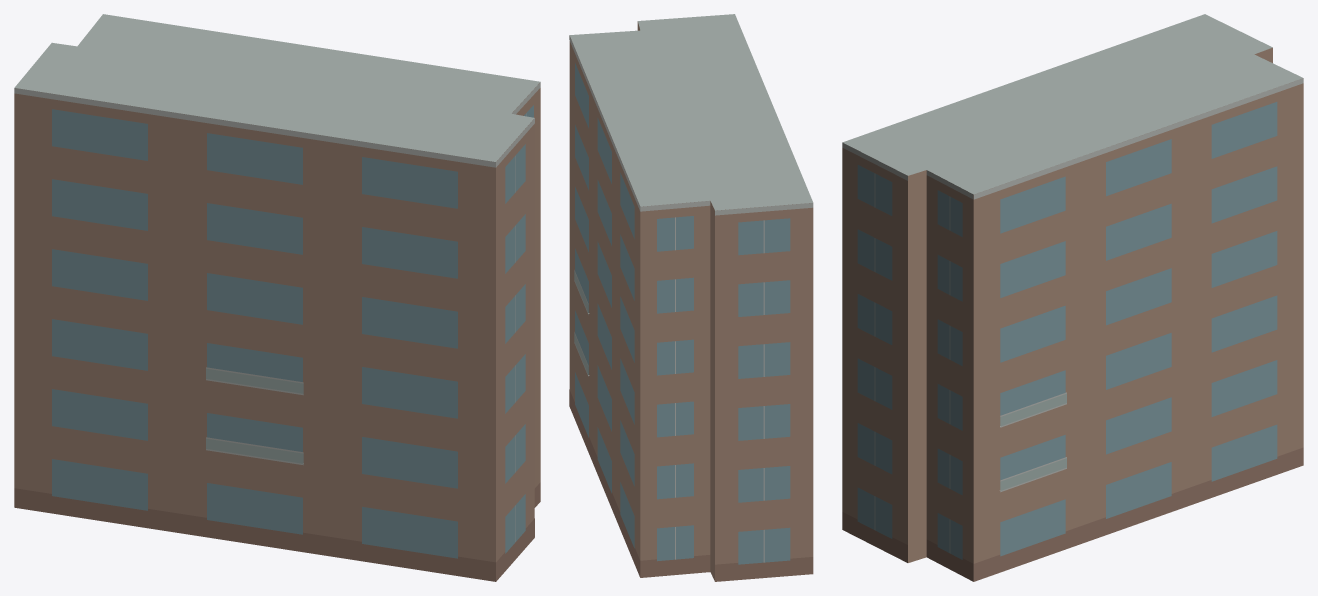
Rendered from survey-upis-32740443.glb.
The picture shows the model from 3 angles, left to right: view 1: azimuth 30°, elevation 25°; view 2: azimuth 150°, elevation 25°; view 3: azimuth 270°, elevation 25°; orthographic projection. The views are drawn at different scales.
Parts seen in each view (by area): view 1: survey-upis-32740443.tmp; view 2: survey-upis-32740443.tmp; view 3: survey-upis-32740443.tmp.
Boxes of the visible parts, x1,y1,x2,y2 form: survey-upis-32740443.tmp: (14, 14, 540, 581); survey-upis-32740443.tmp: (569, 14, 813, 581); survey-upis-32740443.tmp: (842, 14, 1303, 581).
Bounding box in the file's own units: 18.3 × 18.3 × 19.76.
